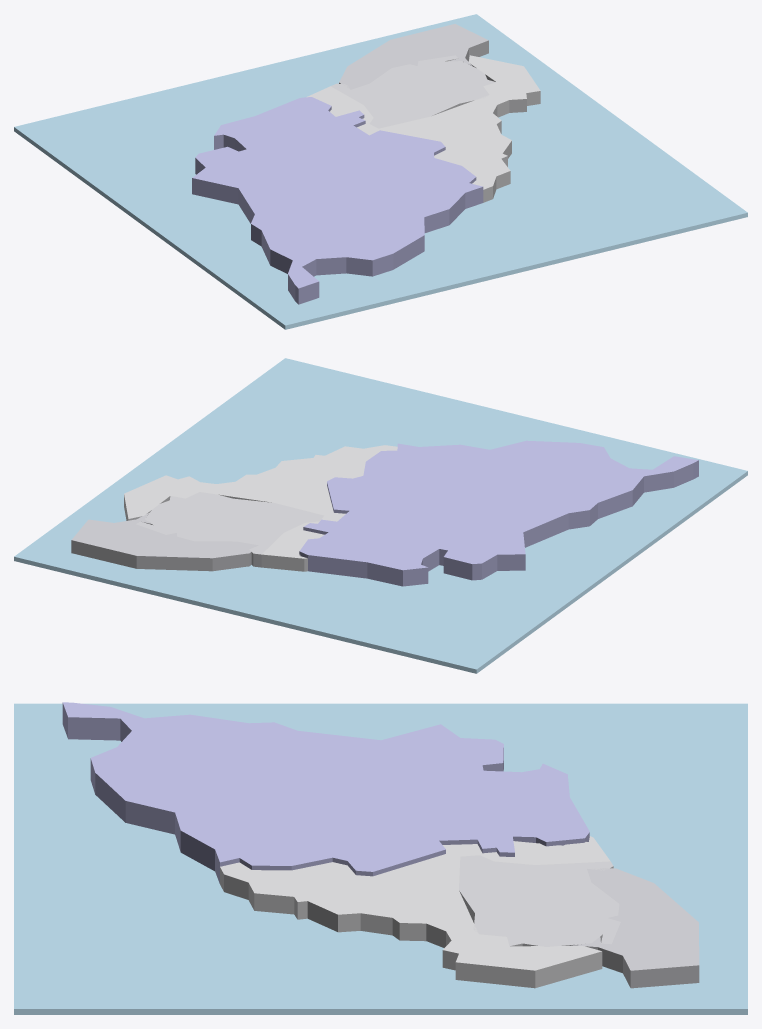
The model's file is mapa-sao-luis.fbx.
The picture shows the model from 3 angles, top to bottom: view 1: azimuth 30°, elevation 25°; view 2: azimuth 150°, elevation 25°; view 3: azimuth 270°, elevation 25°; orthographic projection. The views are drawn at different scales.
Parts seen in each view (by area): view 1: Mapa; view 2: Mapa; view 3: Mapa.
Part boxes in pixels (bbox=[...]): Mapa: bbox=[14, 14, 747, 329]; Mapa: bbox=[14, 358, 747, 673]; Mapa: bbox=[14, 702, 747, 1014].
Size of the model in its own units: 0.8916 by 0.038 by 0.9058.
1 material, 1 textured.
